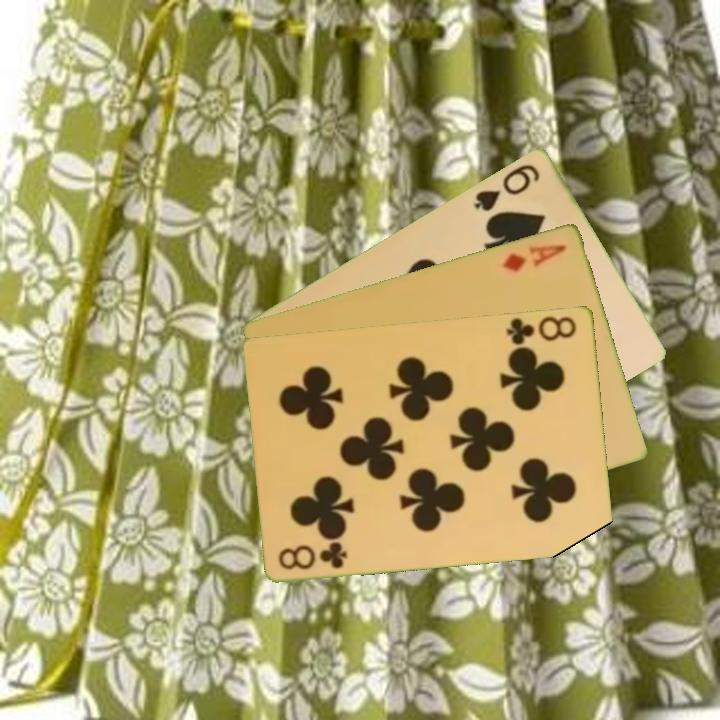6s: (470, 160, 543, 214)
8c: (503, 312, 580, 348), (275, 538, 351, 572)
Ad: (498, 240, 569, 274)
